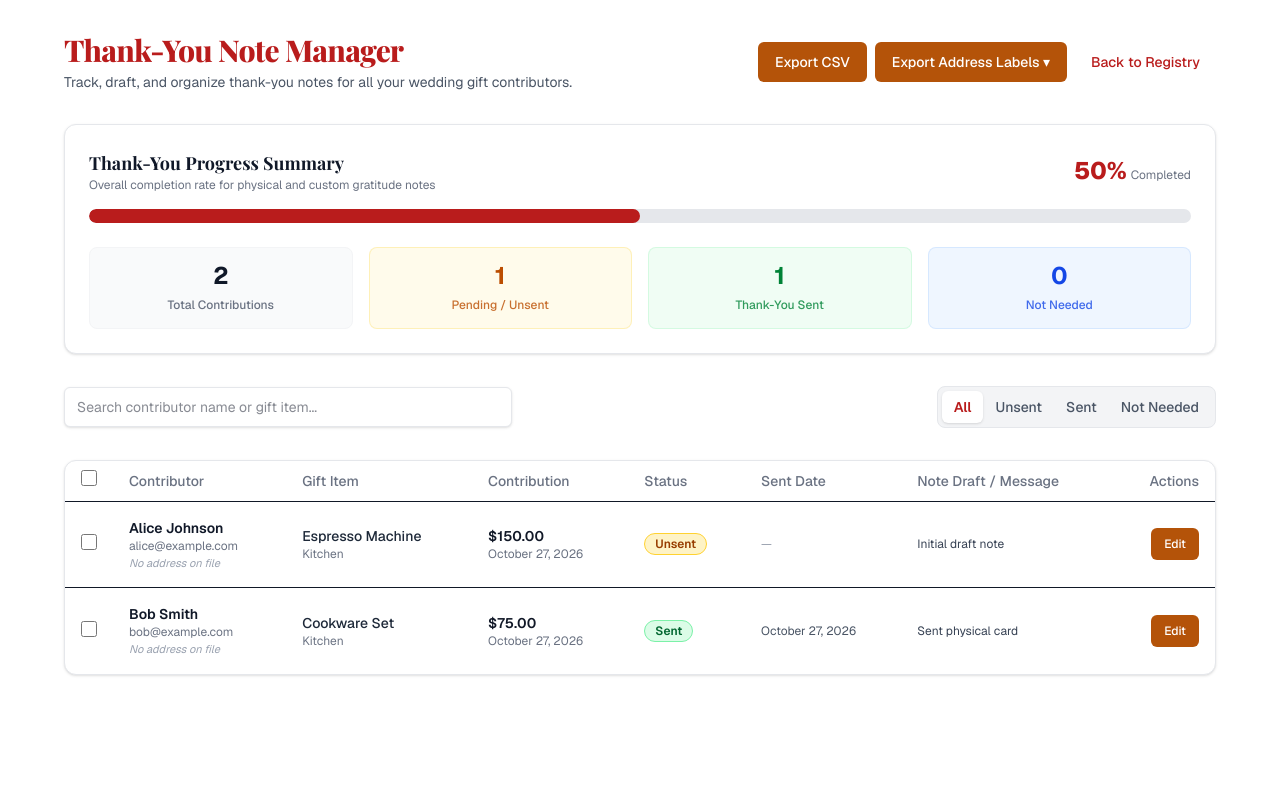
Scenario: ThankYouNotesPage › supports selecting items for batch update
Check: the text "Alice Johnson" is shown, box [129,518,223,536]
Click the checkbox named "Select contributor Alice Johnson". click: click(89, 542)
box: [81,534,97,550]
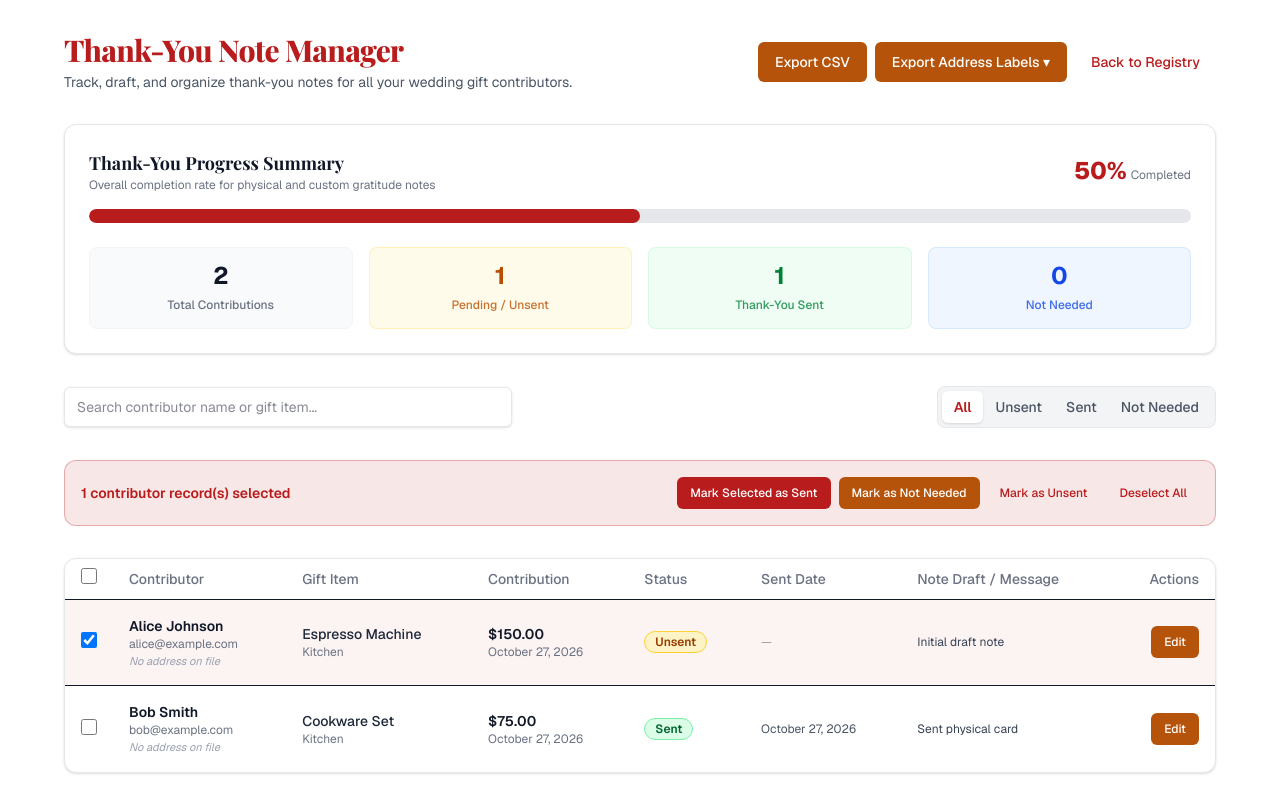
Check: the text "1 contributor record(s) selected" is shown, box [81,483,290,503]
Check: the button "Mark Selected as Sent" is shown, box [677,477,831,509]
